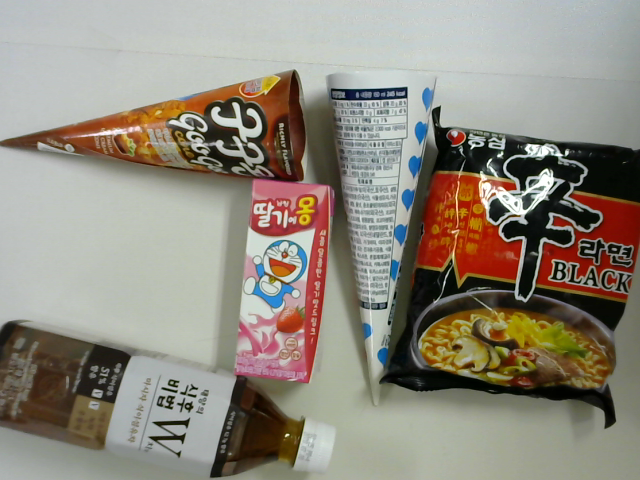Bravo_Cone_(Banila)_CVS: (324, 62, 421, 408)
GooGoo_Cone_CVS: (4, 74, 313, 182)
Post-meal_recipe_W_tea_500ml: (1, 319, 331, 474)
Sinramen_Black: (418, 125, 640, 407)
Strawberry_E_Mong: (230, 176, 321, 380)
